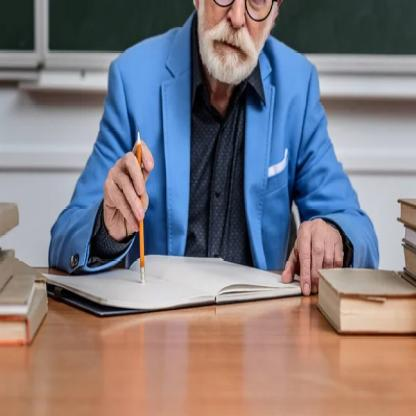pencil: (133, 126, 149, 291)
